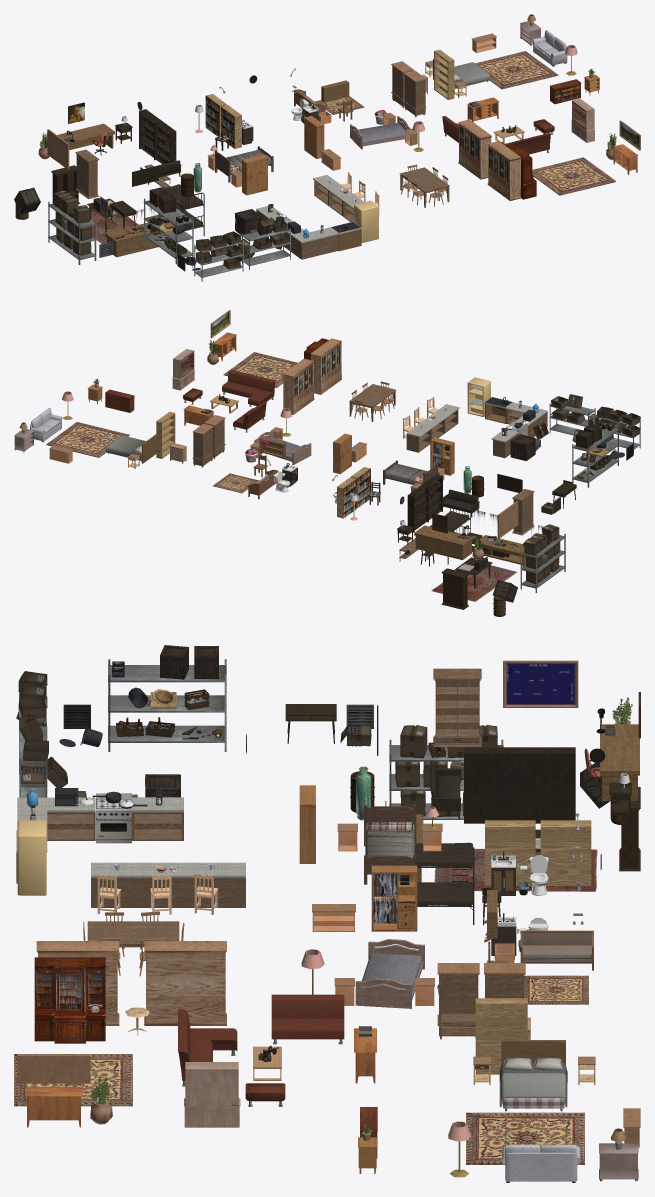
Rendered from furniture.glb.
3 views of the same model, one above another, from view 1: azimuth 30°, elevation 25°; view 2: azimuth 150°, elevation 25°; view 3: azimuth 270°, elevation 25° (orthographic). The views are drawn at different scales.
Parts seen in each view (by area): view 1: Plane.001, Plane.002, Fitment.001-col, Fitment-col, Cube.081-col, C.029-col, Desk.001, Bed.002-col, C.029-col.003, display_cabinet_mp_2_4.001, Wardrobe_01.001-col, Librero.005-col (+34 smaller); view 2: Plane.002, Fitment-col, Desk, Fitment.001-col, Plane.001, C.029-col, carpet_mp_1.002, wardrobe_mp_1_3.001, Bed_09.001-col, C.029-col.003, bed.001-col, Armchair_13.001-col (+28 smaller); view 3: Fitment-col, Bookcase_01-col, Plane.002, C.029-col, shelf_mp_5_2.001, shelf_mp_5_2.002, Bed_09.001-col, Bed.002-col, Paintings_03.001, Fitment_02.002-col, display_cabinet_mp_2_4.001, Armchair_13.002-col (+42 smaller).
Part boxes in pixels (x1,y1,x2,y2): Plane.001: [532, 157, 615, 195]; Plane.002: [475, 51, 558, 89]; Fitment.001-col: [487, 141, 521, 200]; Fitment-col: [458, 119, 491, 179]; Cube.081-col: [284, 227, 338, 259]; C.029-col: [143, 198, 193, 264]; Desk.001: [105, 222, 158, 257]; Bed.002-col: [350, 116, 410, 149]; C.029-col.003: [48, 202, 96, 264]; display_cabinet_mp_2_4.001: [75, 149, 99, 199]; Wardrobe_01.001-col: [242, 154, 267, 195]; Librero.005-col: [434, 49, 454, 99]; Plane.002: [46, 422, 129, 457]; Fitment-col: [283, 358, 314, 414]; Desk: [414, 525, 473, 560]; Fitment.001-col: [310, 338, 341, 394]; Plane.001: [223, 352, 297, 387]; C.029-col: [572, 422, 618, 487]; carpet_mp_1.002: [431, 565, 517, 601]; wardrobe_mp_1_3.001: [441, 568, 468, 609]; Bed_09.001-col: [106, 434, 156, 463]; C.029-col.003: [520, 533, 565, 592]; bed.001-col: [383, 460, 437, 484]; Armchair_13.001-col: [222, 369, 262, 397]; Fitment-col: [144, 941, 226, 1025]; Bookcase_01-col: [34, 957, 105, 1043]; Plane.002: [466, 1112, 584, 1164]; C.029-col: [108, 659, 226, 751]; shelf_mp_5_2.001: [519, 747, 575, 823]; shelf_mp_5_2.002: [464, 747, 519, 823]; Bed_09.001-col: [499, 1040, 567, 1111]; Bed.002-col: [355, 939, 424, 1008]; Paintings_03.001: [503, 660, 578, 707]; Fitment_02.002-col: [184, 1062, 240, 1127]; display_cabinet_mp_2_4.001: [433, 668, 481, 747]; Armchair_13.002-col: [271, 994, 344, 1044].
Size of what is drawn, in the model's own units: 33.24 by 6.32 by 18.91.
183 materials, 174 textured.
